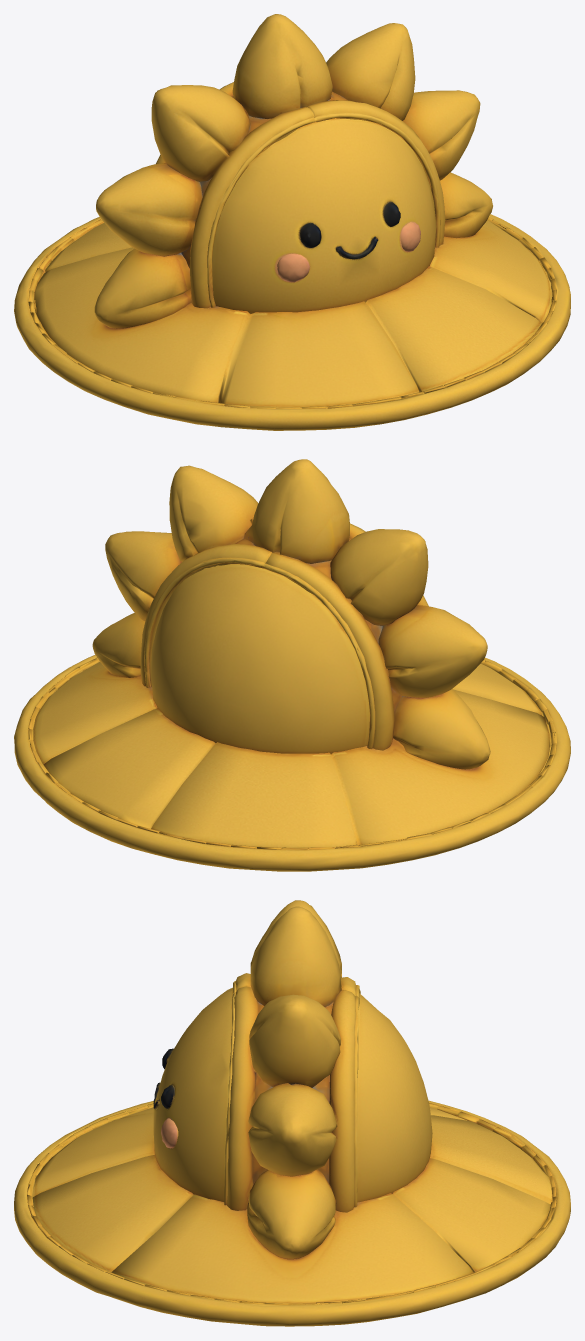
Rendered from mem_ac_sunplush.fbx.
3 views of the same model, one above another, from view 1: azimuth 30°, elevation 25°; view 2: azimuth 150°, elevation 25°; view 3: azimuth 270°, elevation 25° (orthographic).
Parts seen in each view (by area): view 1: tripo_node_8637cd9c; view 2: tripo_node_8637cd9c; view 3: tripo_node_8637cd9c.
Boxes of the visible parts, bbox=[...] form: tripo_node_8637cd9c: bbox=[14, 14, 570, 430]; tripo_node_8637cd9c: bbox=[14, 459, 570, 871]; tripo_node_8637cd9c: bbox=[14, 900, 570, 1326].
Bounding box in the file's own units: 0.998 × 0.5996 × 0.998.
